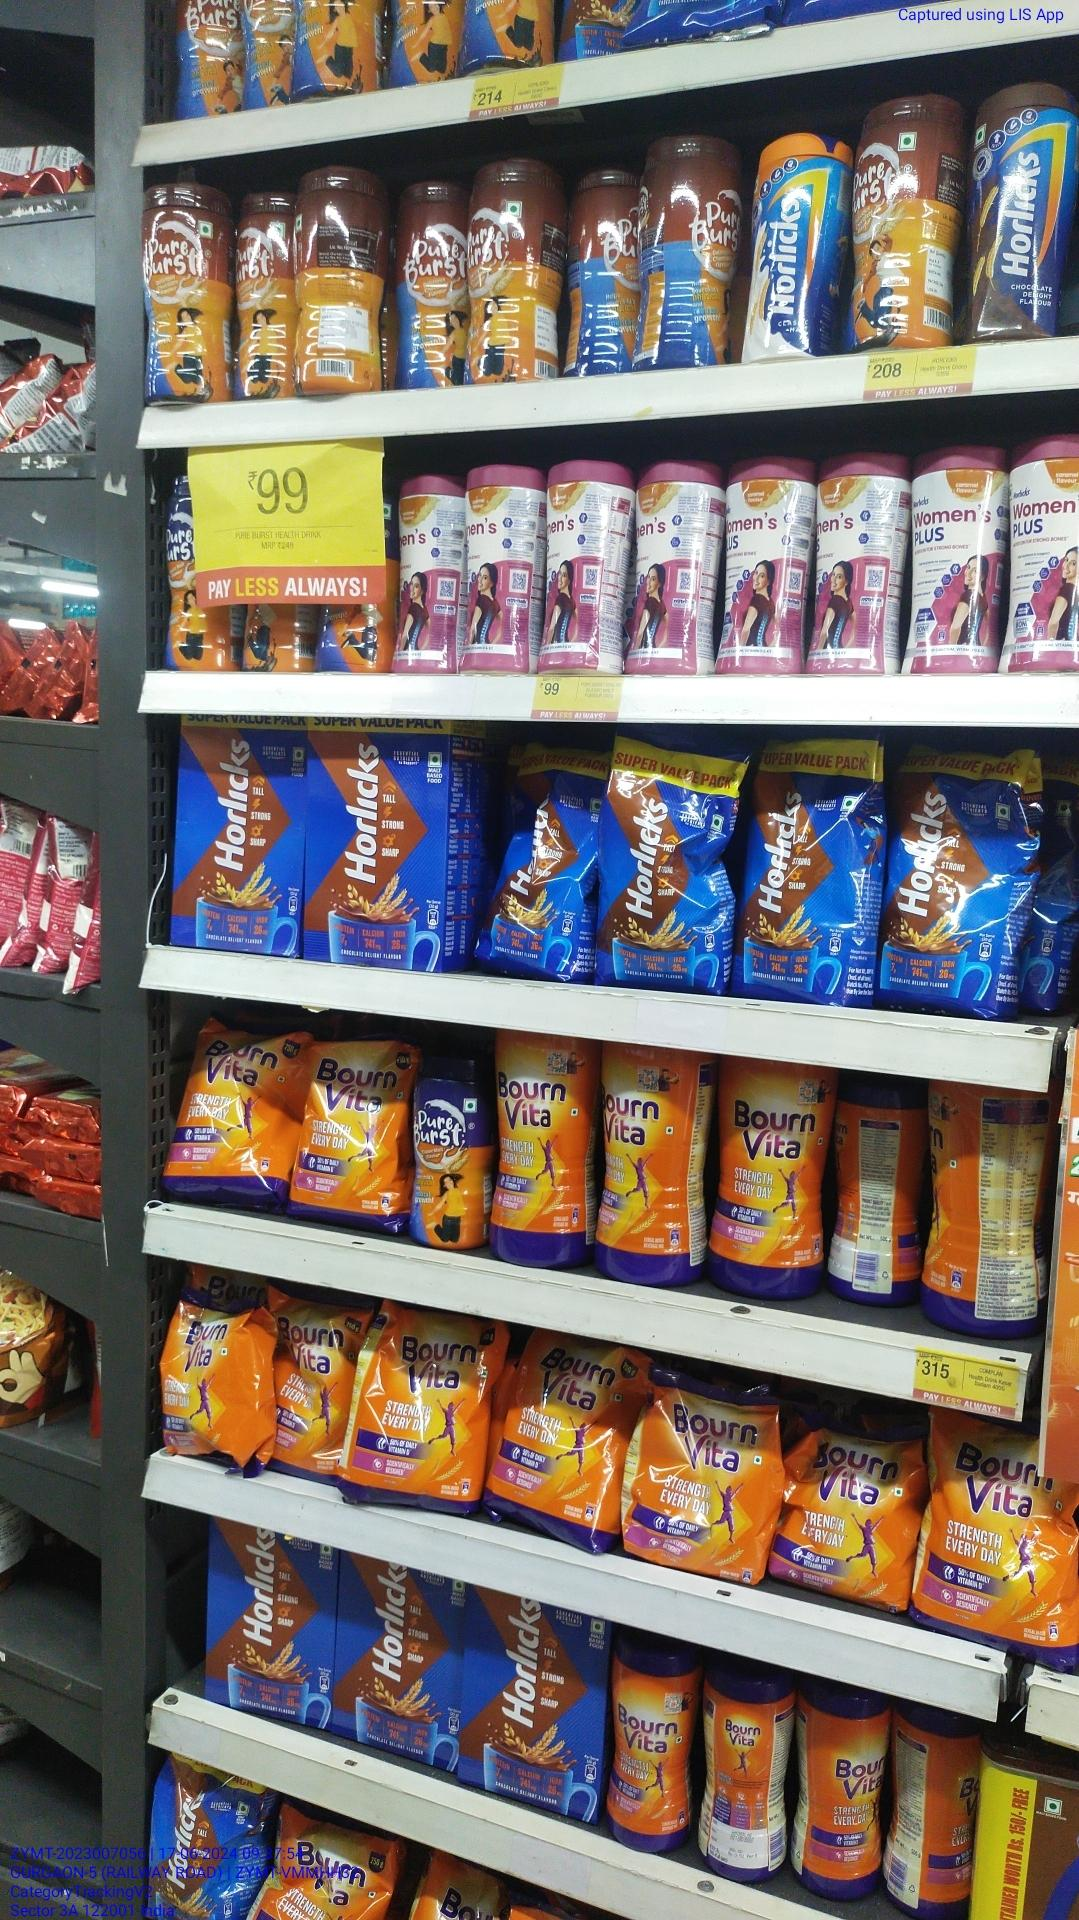BOURN_VITA_500_G_JAR: (611, 1639, 695, 1853), (803, 1687, 885, 1898)
HORLICK_CLASSIC_MALT_500_G_JAR: (743, 135, 844, 363)
